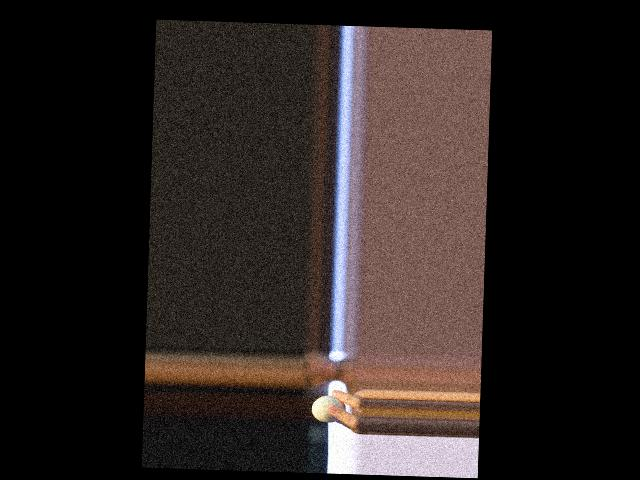egg: (311, 394, 346, 422)
